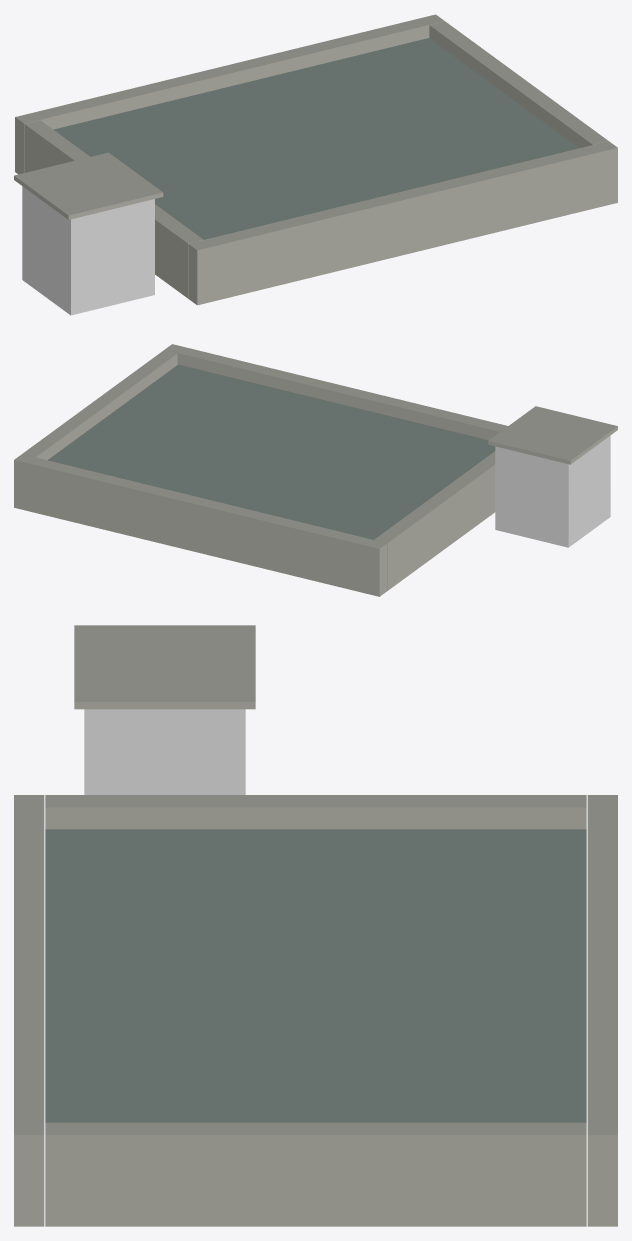
The model's file is SM_Balsa_v3_Escalerilla_LOD0.fbx.
The picture shows the model from 3 angles, top to bottom: view 1: azimuth 30°, elevation 25°; view 2: azimuth 150°, elevation 25°; view 3: azimuth 270°, elevation 25°; orthographic projection. The views are drawn at different scales.
Visible parts, largest first — view 1: SM_huerta_nules_v13_LOD0; view 2: SM_huerta_nules_v13_LOD0; view 3: SM_huerta_nules_v13_LOD0.
Boxes of the visible parts, x1,y1,x2,y2 form: SM_huerta_nules_v13_LOD0: (14, 14, 617, 315); SM_huerta_nules_v13_LOD0: (14, 344, 617, 596); SM_huerta_nules_v13_LOD0: (14, 625, 617, 1226).
Size of the model in its own units: 10.1 by 1.88 by 6.
